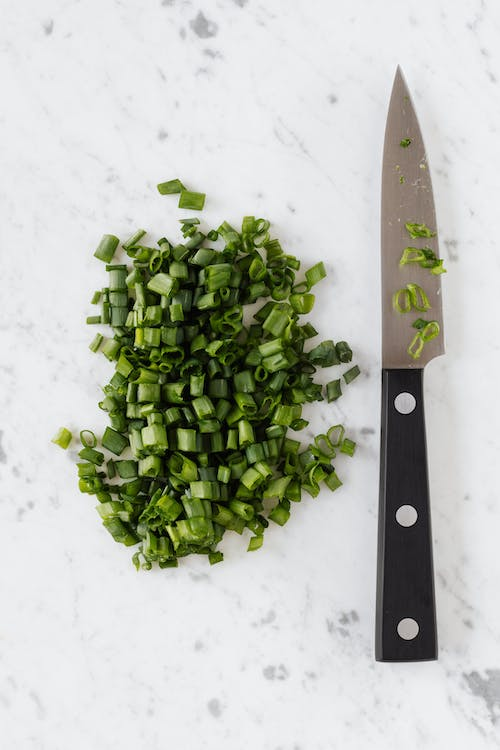knife: (370, 61, 447, 666)
